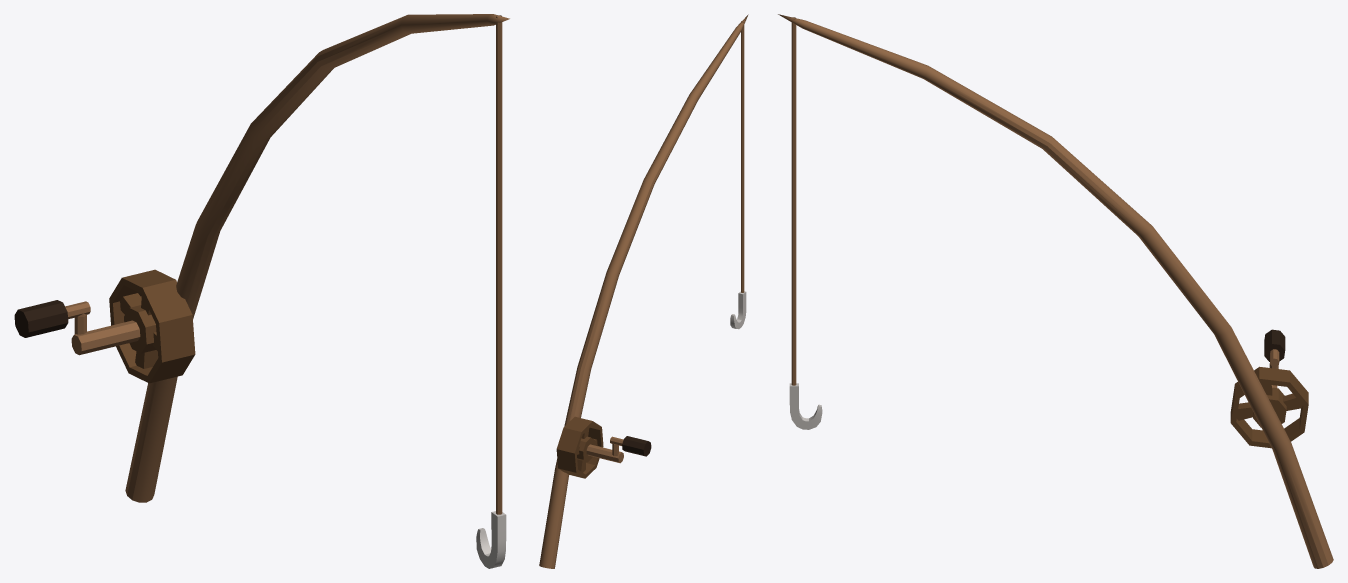
Rendered from fishing1.fbx.
3 renders of one model, left to right at view 1: azimuth 30°, elevation 25°; view 2: azimuth 150°, elevation 25°; view 3: azimuth 270°, elevation 25°, orthographic. The views are drawn at different scales.
Parts seen in each view (by area): view 1: fishing2, fishing1, fishing3, fishing4; view 2: fishing2, fishing1, fishing3, fishing4; view 3: fishing2, fishing1, fishing3, fishing4.
Part boxes in pixels (x1,y1,x2,y2): fishing2: (125, 14, 509, 502); fishing1: (14, 269, 195, 383); fishing3: (496, 15, 502, 514); fishing4: (476, 511, 506, 568); fishing2: (539, 14, 748, 568); fishing1: (556, 416, 651, 478); fishing3: (741, 21, 744, 292); fishing4: (730, 291, 746, 329); fishing2: (778, 14, 1333, 568); fishing1: (1230, 329, 1308, 448); fishing3: (791, 17, 796, 385); fishing4: (789, 383, 822, 429).
Size of the model in its own units: 80.74 by 353 by 322.
1 material, 1 textured.
